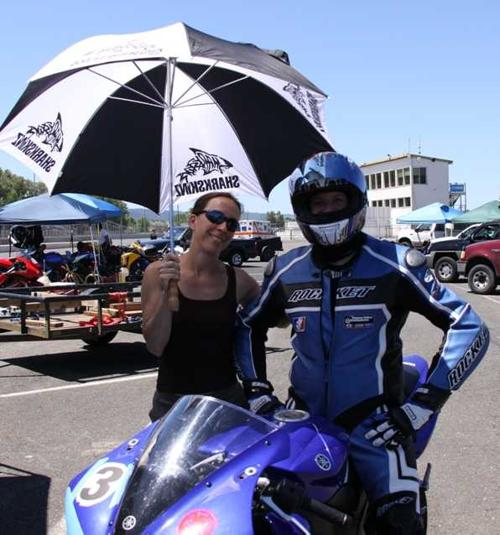person: (140, 190, 260, 423)
